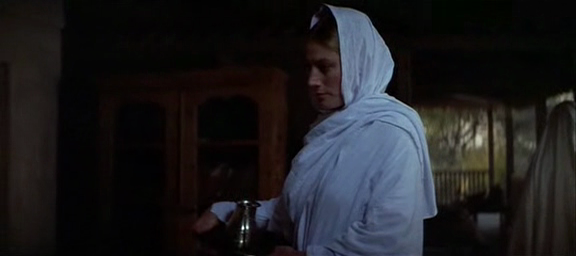face: (308, 53, 342, 110)
ms: (1, 1, 576, 256)
person: (186, 1, 438, 256)
